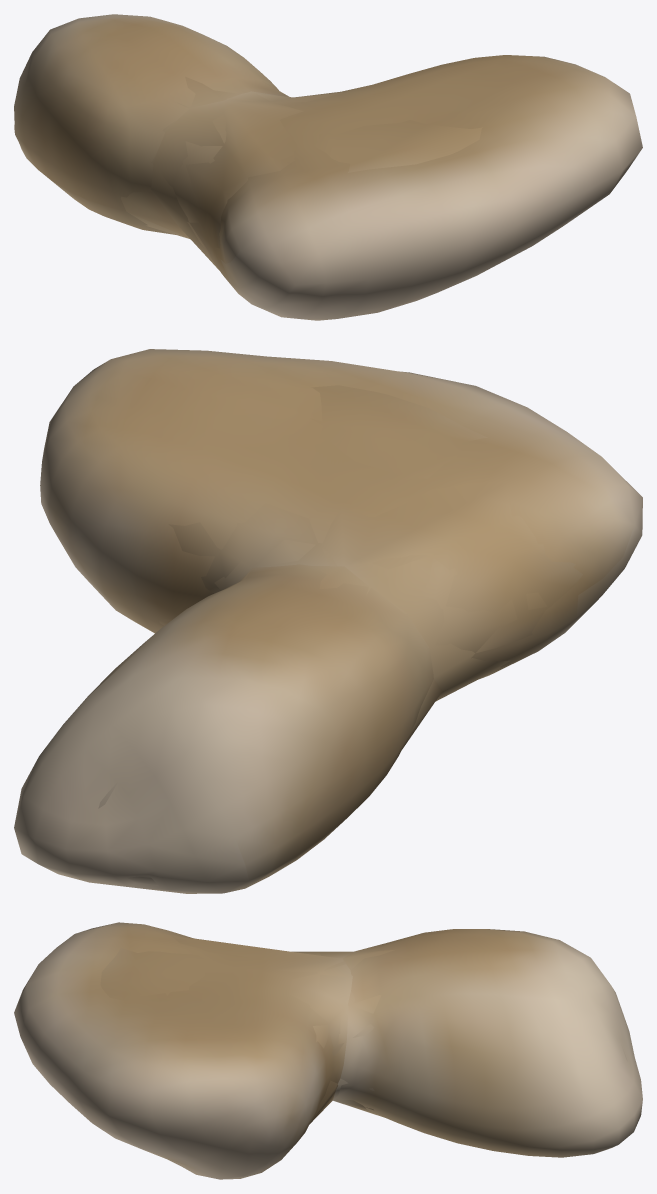
Rendered from R carpale tertium.fbx.
The picture shows the model from 3 angles, top to bottom: view 1: azimuth 30°, elevation 25°; view 2: azimuth 150°, elevation 25°; view 3: azimuth 270°, elevation 25°; orthographic projection. The views are drawn at different scales.
Visible parts, largest first — view 1: R carpale tertium, R carpale tertium low; view 2: R carpale tertium, R carpale tertium low; view 3: R carpale tertium, R carpale tertium low.
Part boxes in pixels (x1,y1,x2,y2): R carpale tertium: (14, 14, 642, 320); R carpale tertium low: (121, 76, 482, 270); R carpale tertium: (14, 349, 642, 893); R carpale tertium low: (98, 385, 582, 886); R carpale tertium: (14, 922, 642, 1179); R carpale tertium low: (100, 935, 627, 1168).
Size of the model in its own units: 4.3 by 2.02 by 6.06.
